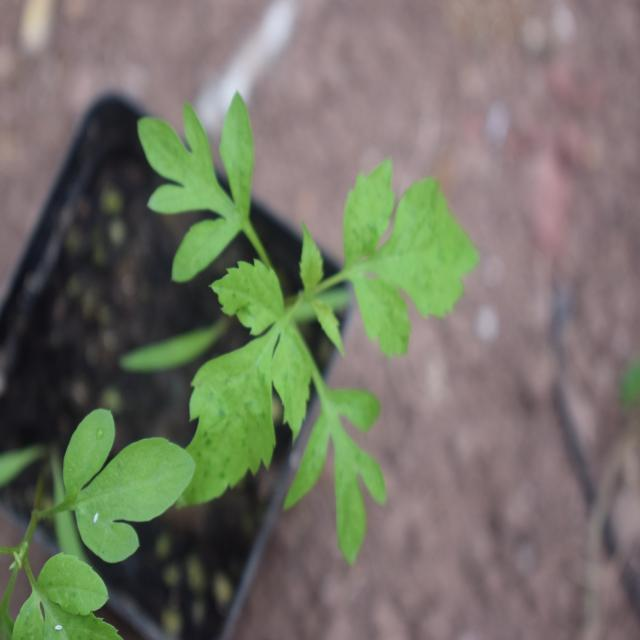Bidens pilosa: (124, 82, 472, 555)
